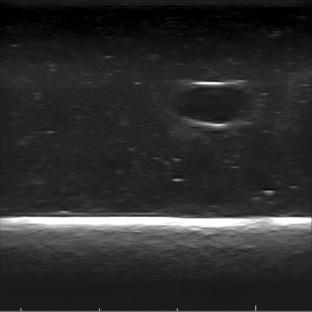vessel: (172, 80, 254, 129)
